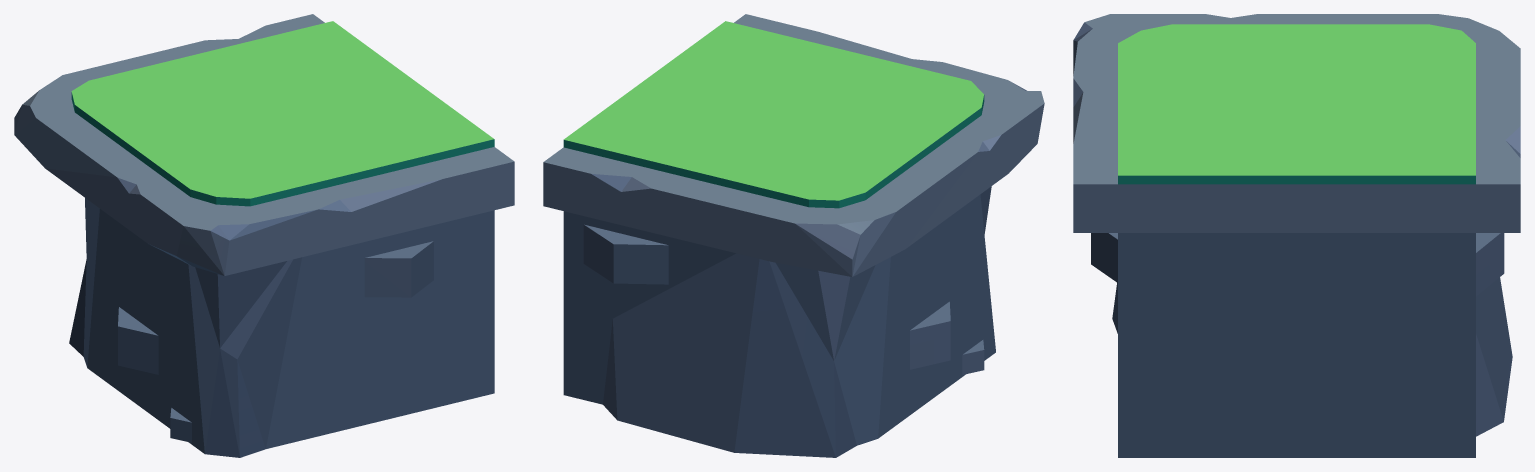
File: Highland_Corner_03.fbx
3 renders of one model, left to right at view 1: azimuth 30°, elevation 25°; view 2: azimuth 150°, elevation 25°; view 3: azimuth 270°, elevation 25°, orthographic. The views are drawn at different scales.
Visible parts, largest first — view 1: Highland_Corner_03; view 2: Highland_Corner_03; view 3: Highland_Corner_03.
Part boxes in pixels (bbox=[...]): Highland_Corner_03: bbox=[14, 14, 514, 457]; Highland_Corner_03: bbox=[543, 14, 1044, 457]; Highland_Corner_03: bbox=[1073, 14, 1520, 457].
Size of the model in its own units: 1.5 by 1.16 by 1.66.
